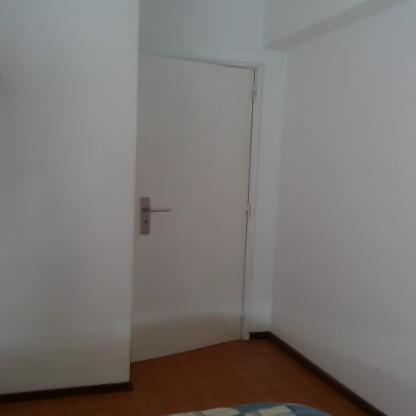closed: (132, 45, 270, 386)
